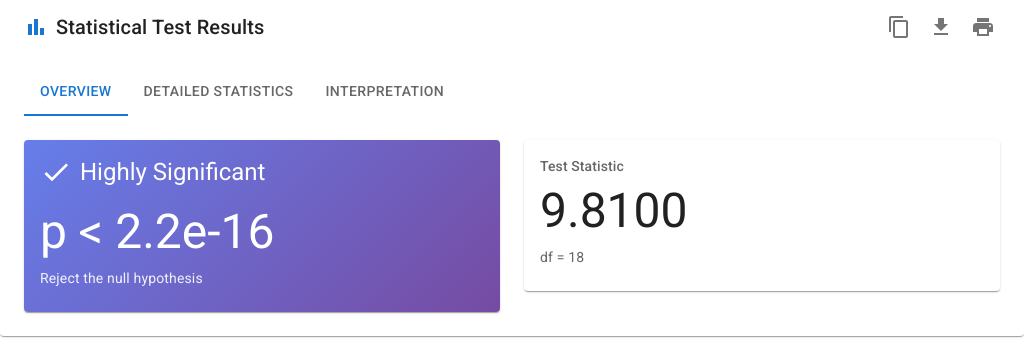
Test: p = 0 prints as "p < 2.2e-16"
Check: the heading "p < 2.2e-16" is shown, box [40,203,274,260]
Click the tab "Interpretation" at coordinates (385, 92), box [310,68,460,116]
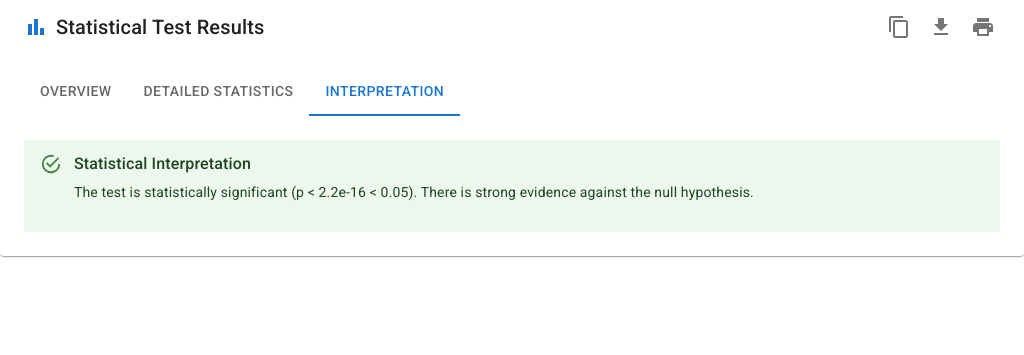
Check: the text "statistically significant (p < 2.2e-16 < 0.05)" is shown, box [74,184,754,200]
